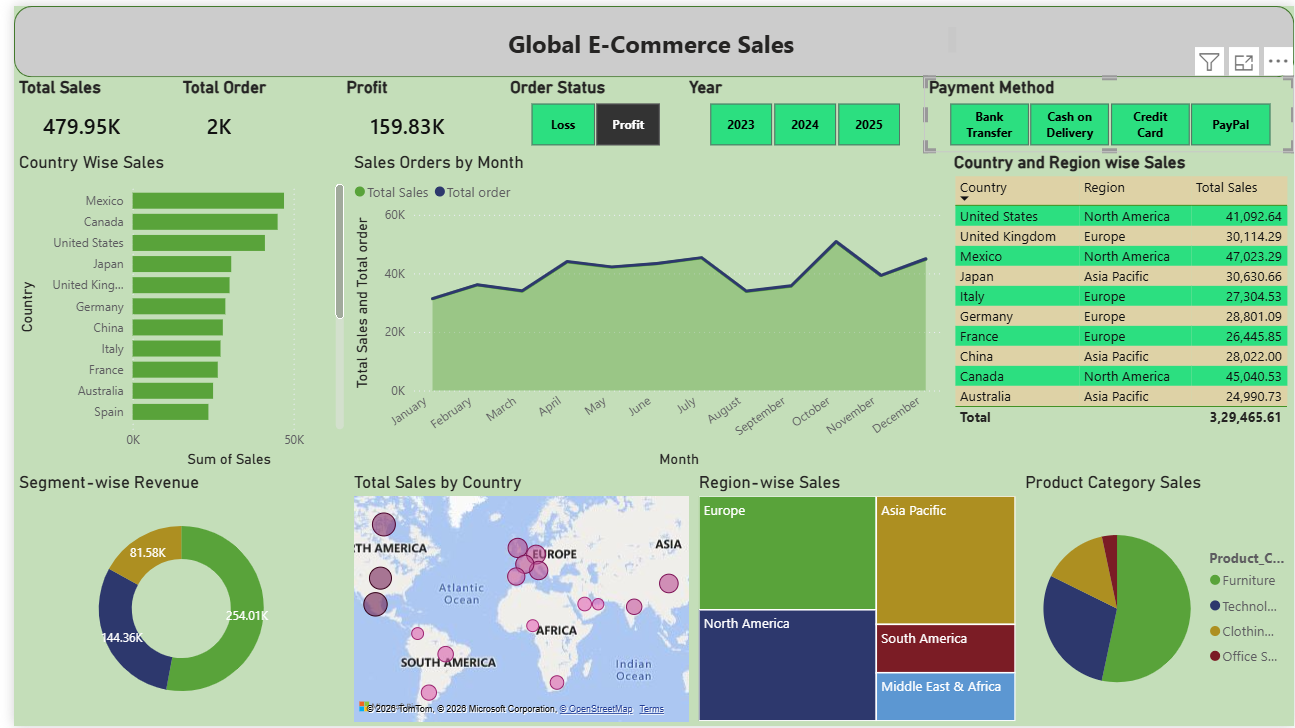

The page's visual inventory and layout, read from the dashboard file:
{"tool":"powerbi","page":{"name":"Page 1","canvas":[1280,720],"ordinal":0},"visuals":[{"type":"group","id":"g1","title":"Group 1","box":[0,0,1280.3,71.4],"z":0},{"type":"cardVisual","title":"Total Sales","fields":{"Data":["global_ecommerce_sales.Total Sales"]},"box":[0,71.2,163.8,75],"z":1000},{"type":"cardVisual","title":"Total Order","fields":{"Data":["global_ecommerce_sales.Total order"]},"box":[163.8,71.2,163.8,75],"z":2000},{"type":"shape","box":[0,0,1280.3,71.4],"z":3000,"group":"g1"},{"type":"cardVisual","fields":{"Data":["global_ecommerce_sales.Total Profit"]},"box":[327.5,71.2,163.8,75],"z":3000},{"type":"slicer","title":"Order Status","fields":{"Values":["global_ecommerce_sales.Profit_Status"]},"box":[491.2,71.2,178.8,75],"z":4000},{"type":"slicer","title":"Year","fields":{"Values":["global_ecommerce_sales.Order_Date.Variation.Date Hierarchy.Year"]},"box":[670,71.2,240,75],"z":5000},{"type":"textbox","box":[334.8,16.5,612,38.4],"z":6000,"group":"g1"},{"type":"slicer","title":"Payment Method","fields":{"Values":["global_ecommerce_sales.Payment_Method"]},"box":[910,71.2,370,75],"z":6000},{"type":"barChart","title":"Country Wise Sales","fields":{"Category":["global_ecommerce_sales.Country"],"Y":["Sum(global_ecommerce_sales.Sales)"]},"box":[0,146.2,335,320],"z":7000},{"type":"donutChart","title":"Segment-wise Revenue","fields":{"Category":["global_ecommerce_sales.Customer_Segment"],"Y":["global_ecommerce_sales.Total Sales"]},"box":[0,466.2,335,253.8],"z":8000},{"type":"stackedAreaChart","title":"Sales Orders by Month","fields":{"Category":["global_ecommerce_sales.Order_Date.Variation.Date Hierarchy.Month"],"Y":["global_ecommerce_sales.Total Sales","global_ecommerce_sales.Total order"]},"box":[335,146.2,600,320],"z":9000},{"type":"map","fields":{"Category":["global_ecommerce_sales.Country"],"Size":["global_ecommerce_sales.Total Sales"]},"box":[335,466.2,345,253.8],"z":10000},{"type":"tableEx","title":"Country and Region wise Sales","fields":{"Values":["global_ecommerce_sales.Country","global_ecommerce_sales.Region","global_ecommerce_sales.Total Sales"]},"box":[935,146.2,345,320],"z":11000},{"type":"treemap","title":"Region-wise Sales","fields":{"Group":["global_ecommerce_sales.Region"],"Values":["Sum(global_ecommerce_sales.Sales)"]},"box":[680,466.2,326.2,253.8],"z":12000},{"type":"pieChart","title":"Product Category Sales","fields":{"Category":["global_ecommerce_sales.Product_Category"],"Y":["global_ecommerce_sales.Total Sales"]},"box":[1006,466,274,254],"z":13000}]}

Visuals, with their boxes in screenshot pixels (x1, y1, x2, y2), scaled from the page's 1280x720 canvas onto the 1295x728 screenshot:
"Group 1" group: l=0, t=0, r=1294, b=72
"Total Sales" cardVisual: l=0, t=72, r=166, b=148
"Total Order" cardVisual: l=166, t=72, r=331, b=148
shape: l=0, t=0, r=1294, b=72
cardVisual - global_ecommerce_sales.Total Profit: l=331, t=72, r=497, b=148
"Order Status" slicer: l=497, t=72, r=678, b=148
"Year" slicer: l=678, t=72, r=921, b=148
textbox: l=339, t=17, r=958, b=56
"Payment Method" slicer: l=921, t=72, r=1294, b=148
"Country Wise Sales" barChart: l=0, t=148, r=339, b=471
"Segment-wise Revenue" donutChart: l=0, t=471, r=339, b=727
"Sales Orders by Month" stackedAreaChart: l=339, t=148, r=946, b=471
map - global_ecommerce_sales.Country x global_ecommerce_sales.Total Sales: l=339, t=471, r=688, b=727
"Country and Region wise Sales" tableEx: l=946, t=148, r=1294, b=471
"Region-wise Sales" treemap: l=688, t=471, r=1018, b=727
"Product Category Sales" pieChart: l=1018, t=471, r=1294, b=727
